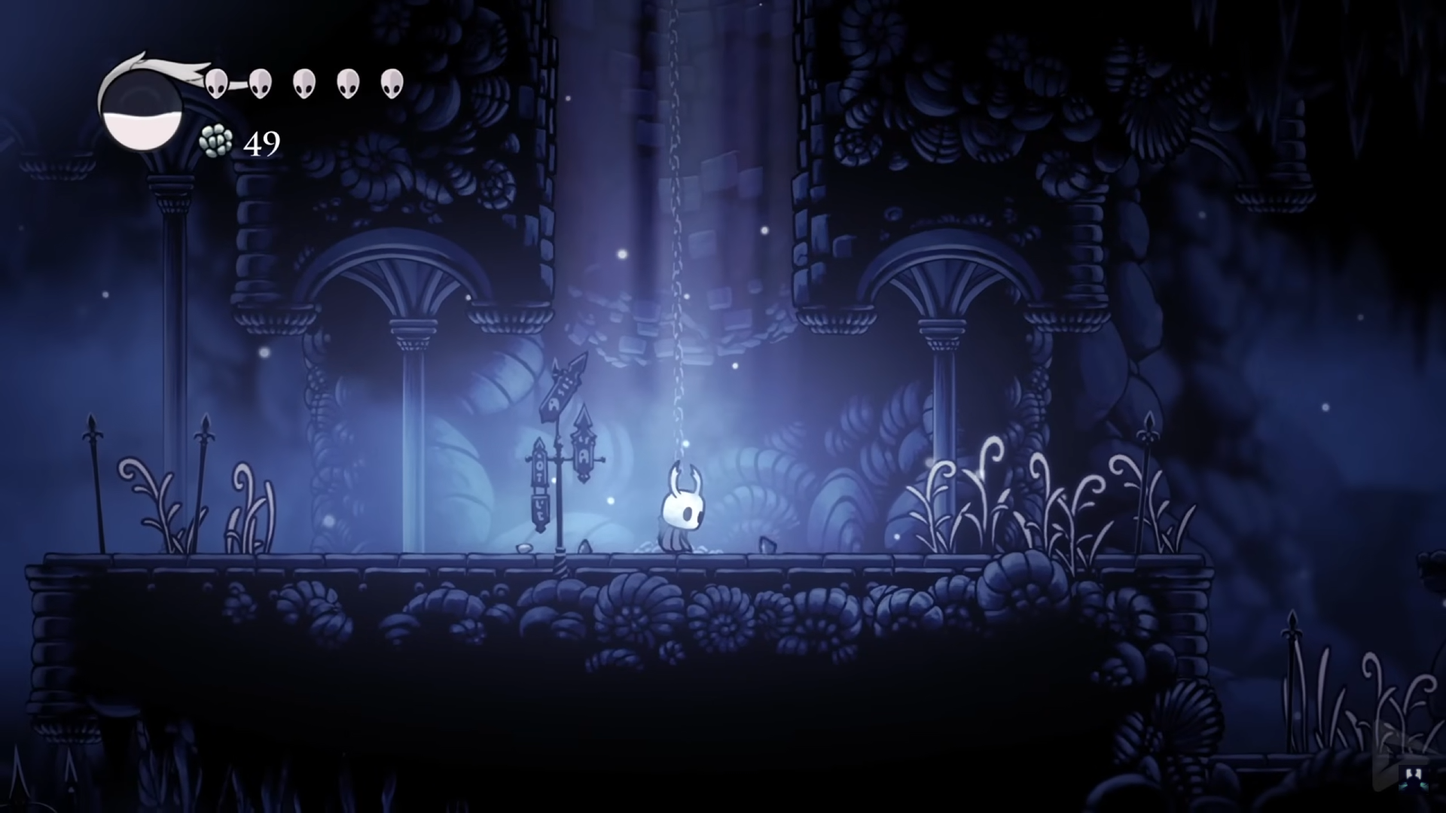HK: (655, 457, 707, 553)
